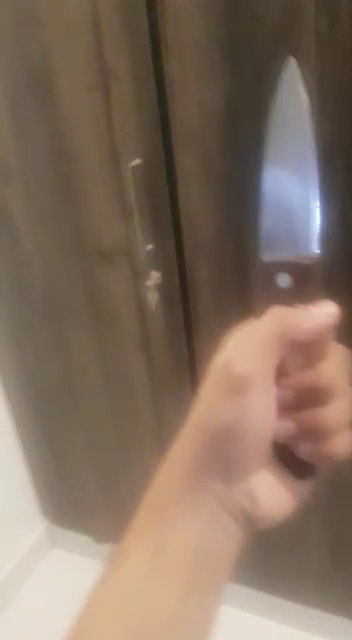knife: (239, 46, 351, 469)
